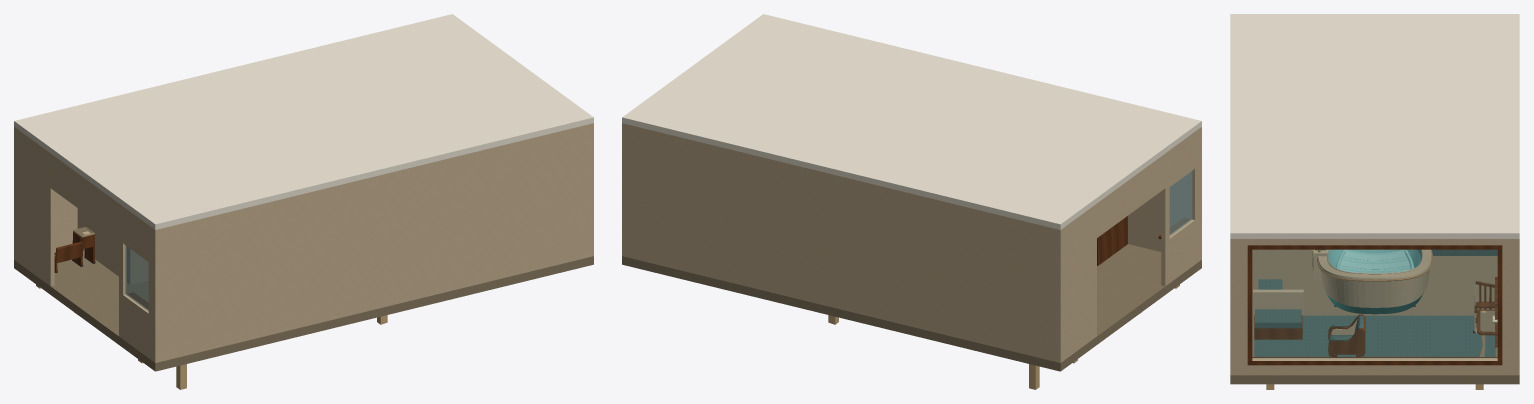
File: NG458_WarmInterior_r001.glb
3 renders of one model, left to right at view 1: azimuth 30°, elevation 25°; view 2: azimuth 150°, elevation 25°; view 3: azimuth 270°, elevation 25°, orthographic. The views are drawn at different scales.
Parts seen in each view (by area): view 1: NG458_RuntimeBatch_001, NG458_RoomFloor, NG458_ScreenedStreetGlass, NG458_RuntimeBatch_013; view 2: NG458_RuntimeBatch_001, NG458_RoomFloor, NG458_ScreenedStreetGlass, NG458_RuntimeBatch_002; view 3: NG458_RuntimeBatch_001, NGP_458_PrivateViewPane, NG458_RoomFloor, NGW_458_OutlookFloorInlay, NG458_ReservedRestSupport_01__Hollow continuous basin shell , NG458_ReservedRestSupport_01__WaterSurface_VisualOnly, NGP_458_Frame_Sill, NG458_ReservedRestSupport_01__Contoured broad immersed rest , NGP_458_Frame_Head, NGP_458_ViewSeat_Back, NGP_458_ViewSeat_Cushion, NG458_RuntimeBatch_028 (+7 smaller).
Boxes of the visible parts, x1,y1,x2,y2 form: NG458_RuntimeBatch_001: [14, 14, 593, 362]; NG458_RoomFloor: [14, 250, 593, 371]; NG458_ScreenedStreetGlass: [125, 245, 148, 310]; NG458_RuntimeBatch_013: [54, 231, 95, 271]; NG458_RuntimeBatch_001: [622, 14, 1201, 362]; NG458_RoomFloor: [622, 244, 1201, 371]; NG458_ScreenedStreetGlass: [1169, 171, 1192, 235]; NG458_RuntimeBatch_002: [1097, 216, 1190, 265]; NG458_RuntimeBatch_001: [1230, 14, 1519, 375]; NGP_458_PrivateViewPane: [1252, 250, 1497, 358]; NG458_RoomFloor: [1230, 249, 1519, 384]; NGW_458_OutlookFloorInlay: [1254, 315, 1495, 356]; NG458_ReservedRestSupport_01__Hollow continuous basin shell : [1318, 249, 1431, 314]; NG458_ReservedRestSupport_01__WaterSurface_VisualOnly: [1329, 250, 1420, 272]; NGP_458_Frame_Sill: [1247, 357, 1502, 365]; NG458_ReservedRestSupport_01__Contoured broad immersed rest : [1339, 249, 1410, 273]; NGP_458_Frame_Head: [1247, 245, 1502, 249]; NGP_458_ViewSeat_Back: [1253, 289, 1303, 315]; NGP_458_ViewSeat_Cushion: [1255, 309, 1301, 328]; NG458_RuntimeBatch_028: [1328, 314, 1365, 356].
Size of the model in its own units: 12.9 by 5.31 by 7.2.
40 materials, 20 textured.
